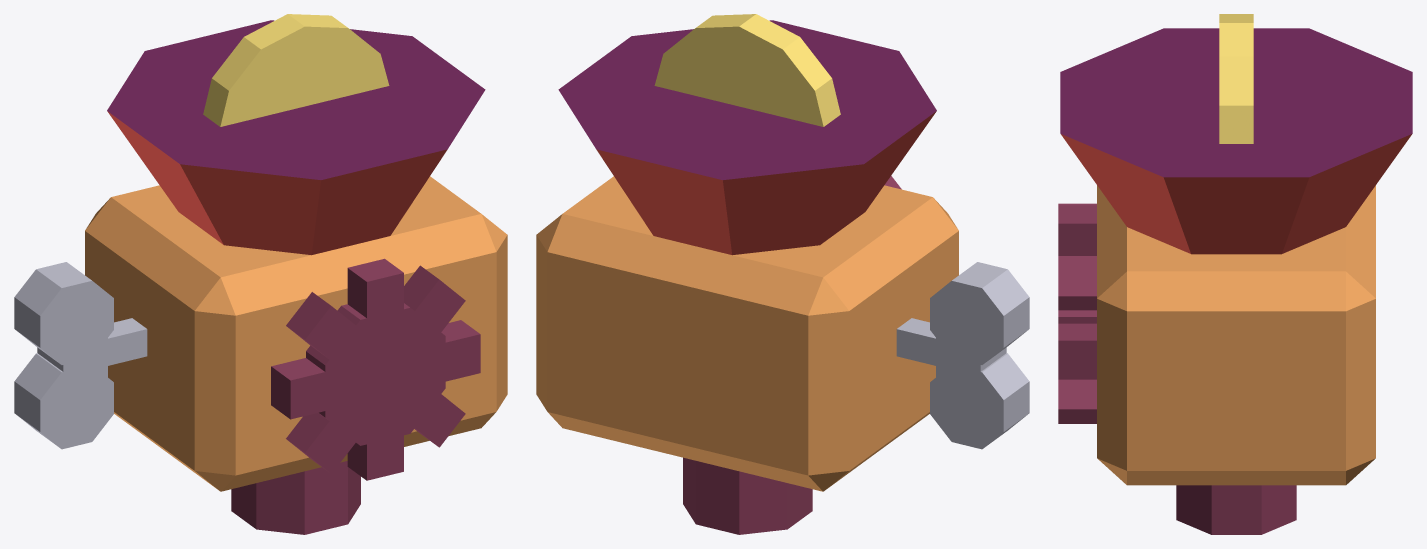
Rendered from dropper.glb.
The picture shows the model from 3 angles, left to right: view 1: azimuth 30°, elevation 25°; view 2: azimuth 150°, elevation 25°; view 3: azimuth 270°, elevation 25°; orthographic projection.
Parts seen in each view (by area): view 1: Body, Hopper, Gear, Key, Coin, Chute; view 2: Body, Hopper, Key, Coin, Chute; view 3: Body, Hopper, Gear, Chute, Coin.
Boxes of the visible parts, x1=… form: Body: x1=85, y1=176, x2=507, y2=491; Hopper: x1=107, y1=20, x2=485, y2=255; Gear: x1=271, y1=258, x2=480, y2=480; Key: x1=14, y1=262, x2=147, y2=449; Coin: x1=203, y1=14, x2=389, y2=126; Chute: x1=231, y1=461, x2=360, y2=534; Body: x1=536, y1=176, x2=958, y2=491; Hopper: x1=558, y1=20, x2=936, y2=255; Key: x1=896, y1=262, x2=1029, y2=449; Coin: x1=654, y1=14, x2=840, y2=126; Chute: x1=683, y1=457, x2=812, y2=534; Body: x1=1097, y1=185, x2=1375, y2=485; Hopper: x1=1060, y1=28, x2=1412, y2=254; Gear: x1=1058, y1=203, x2=1096, y2=423; Chute: x1=1176, y1=485, x2=1296, y2=534; Coin: x1=1219, y1=14, x2=1253, y2=143.
Bounding box in the file's own units: 1.14 × 1.25 × 0.8252.
